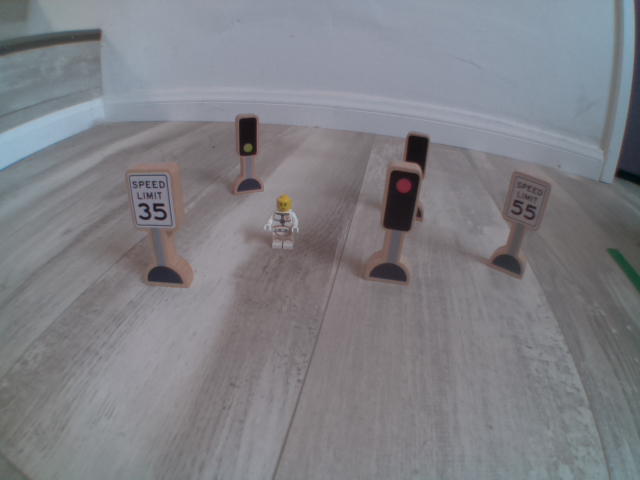Green Traffic Light: (232, 110, 265, 157)
Red Traffic Light: (383, 158, 424, 241)
Speed Limit 35: (123, 165, 183, 233)
Speed Limit 55: (503, 164, 552, 234)
person: (258, 189, 301, 256)
